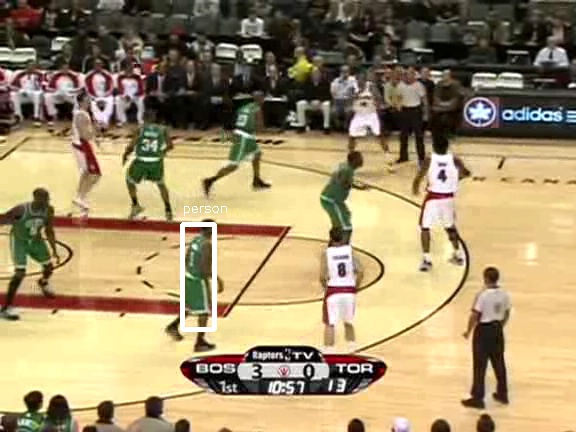person: (182, 235, 216, 316), (181, 235, 215, 316), (183, 235, 217, 316), (182, 234, 216, 315), (182, 236, 216, 317)
target_negative: (229, 53, 452, 161), (88, 105, 322, 165), (228, 12, 280, 276), (452, 129, 483, 409), (247, 313, 400, 351), (500, 306, 555, 409)
